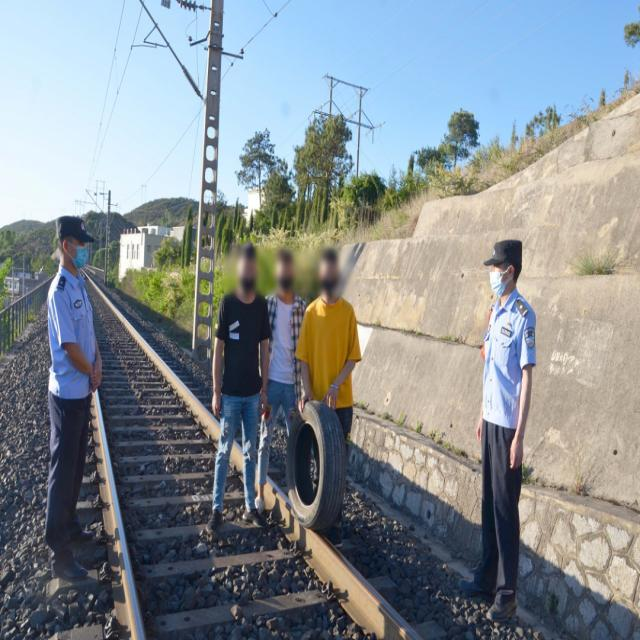people: (473, 236, 538, 622), (291, 239, 371, 548), (43, 213, 106, 580), (208, 239, 276, 528), (257, 227, 307, 502)
